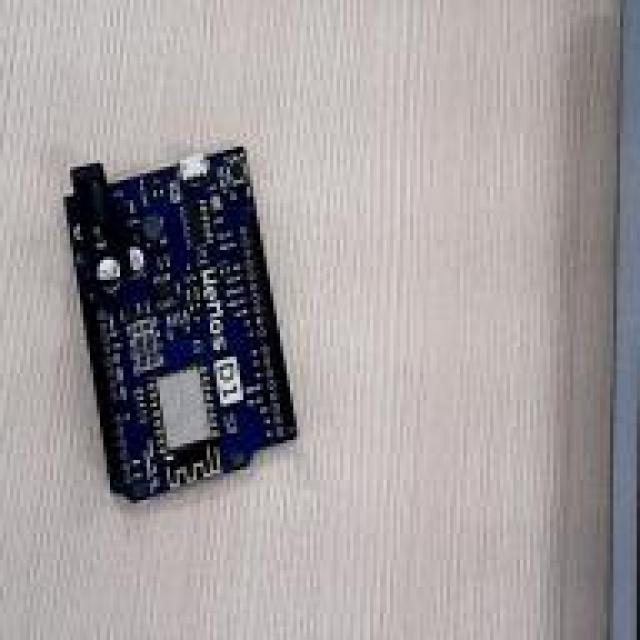Wemos: (64, 148, 294, 498)
